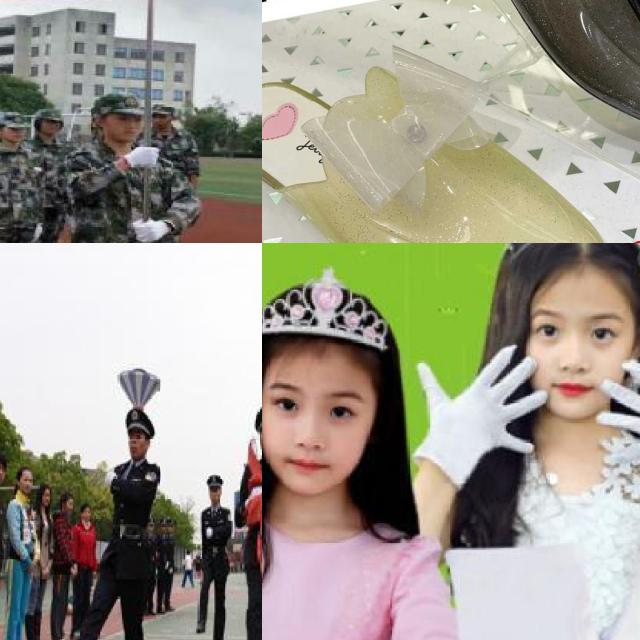No_Glasses: (262, 374, 373, 436), (532, 305, 627, 355)
Sandals: (262, 55, 616, 243), (371, 0, 640, 179)
face_nomask: (262, 357, 378, 498), (518, 288, 640, 412), (104, 110, 142, 148), (120, 433, 152, 461), (41, 115, 61, 143), (4, 123, 28, 143)
hand_glove: (411, 336, 552, 470), (596, 354, 640, 474), (131, 216, 168, 243), (126, 150, 162, 173), (102, 469, 118, 487), (31, 223, 44, 243), (206, 524, 214, 541)
hand_noglove: (40, 567, 50, 580), (70, 564, 77, 580), (27, 560, 36, 570)
head_nohelmet: (262, 280, 401, 369), (498, 243, 640, 302)
person: (436, 243, 640, 640), (262, 265, 455, 640), (71, 407, 171, 640), (65, 81, 185, 243), (193, 473, 236, 640), (234, 402, 262, 640), (23, 103, 65, 243), (0, 115, 36, 243)
shoes: (192, 615, 209, 638)
